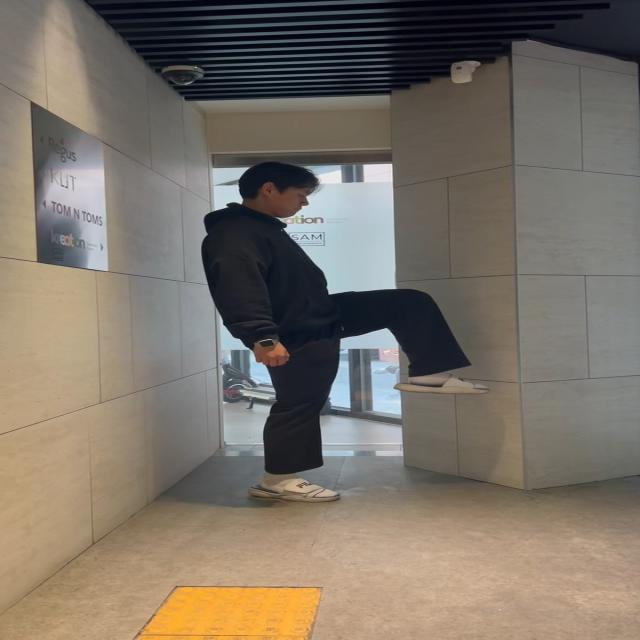knee: (321, 278, 497, 412)
